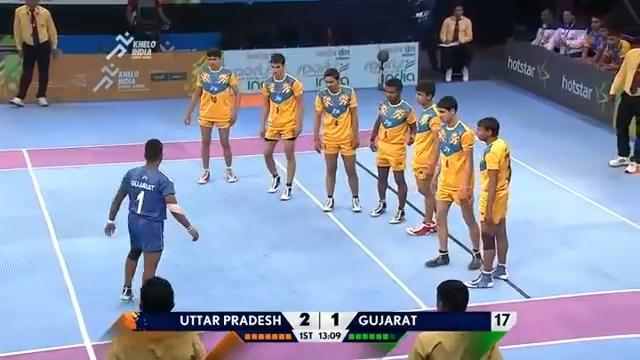Player: (423, 94, 483, 270), (463, 114, 514, 289), (183, 46, 242, 185), (311, 65, 362, 212), (367, 75, 417, 224), (257, 51, 305, 201), (412, 79, 435, 242)
Raider: (102, 136, 200, 303)
referee: (102, 286, 202, 360), (404, 276, 482, 350), (8, 0, 59, 107), (606, 34, 640, 168), (437, 5, 473, 81)
